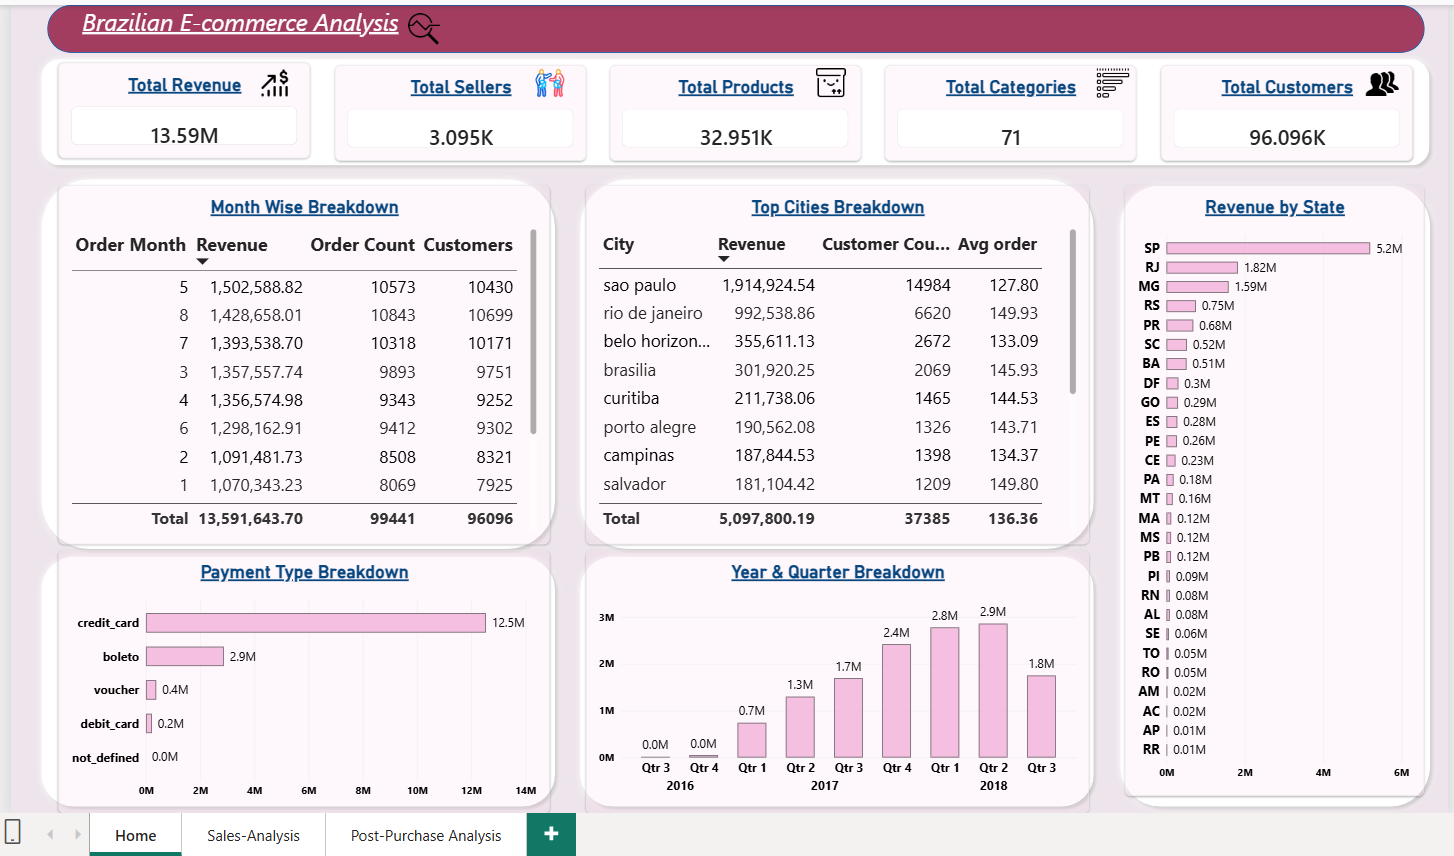

The dashboard page shown, as its layout file describes it:
{"tool":"powerbi","page":{"name":"Home","canvas":[1920,1080],"ordinal":0},"visuals":[{"type":"shape","box":[32,224,704,512],"z":0},{"type":"shape","box":[32,64,1872,160],"z":1000},{"type":"tableEx","title":"Month Wise Breakdown","fields":{"Values":["orders.Order Year Hierarchy.Order Month","Sum(order_items.price)","Count(orders.order_id)","orders.customer_unique_id"]},"box":[64,240,656,480],"z":2000},{"type":"shape","box":[752,224,704,512],"z":3000},{"type":"tableEx","title":"Top Cities Breakdown","fields":{"Values":["customers.customer_city","Sum(order_items.price)","customers.customer_unique_id","order_items.avg orderpercustomer"]},"box":[768,240,672,480],"z":4000},{"type":"cardVisual","title":"Total Revenue","fields":{"Data":["Sum(order_items.price)"]},"box":[64,77,336,128],"z":5000},{"type":"cardVisual","title":"Total Sellers","fields":{"Data":["Count(sellers.seller_id)"]},"box":[432,80,336,128],"z":6000},{"type":"cardVisual","title":"Total Products","fields":{"Data":["Count(products.product_id)"]},"box":[800,80,336,128],"z":7000},{"type":"cardVisual","title":"Total Customers","fields":{"Data":["Count(customers.customer_unique_id)"]},"box":[1536,80,336,128],"z":8000},{"type":"cardVisual","title":"Total Categories","fields":{"Data":["Count(categories.product_category_name_english)"]},"box":[1168,80,336,128],"z":9000},{"type":"shape","box":[32,728,704,352],"z":10000},{"type":"shape","box":[752,728,704,352],"z":11000},{"type":"shape","box":[1472,232,432,848],"z":12000},{"type":"barChart","title":"Revenue by State","fields":{"Category":["customers.customer_state"],"Y":["Sum(order_items.price)"]},"box":[1488,240,400,816],"z":13000},{"type":"barChart","title":"Payment Type Breakdown","fields":{"Category":["payments.payment_type"],"Y":["Sum(payments.payment_value)"]},"box":[64,728,656,352],"z":14000},{"type":"columnChart","title":"Year & Quarter Breakdown","fields":{"Category":["calendar table.Date.Variation.Date Hierarchy.Year","calendar table.Date.Variation.Date Hierarchy.Quarter","calendar table.Date.Variation.Date Hierarchy.Month"],"Y":["Sum(order_items.price)"]},"box":[768,728,672,352],"z":15000},{"type":"shape","box":[48,0,1840,64],"z":16000},{"type":"textbox","box":[96,0,448,64],"z":17000},{"type":"image","box":[1056,80,80,48],"z":18000},{"type":"image","box":[1440,80,64,48],"z":19000},{"type":"image","box":[1792,80,80,48],"z":20000},{"type":"image","box":[688,80,64,48],"z":21000},{"type":"image","box":[320,80,64,48],"z":22000},{"type":"image","box":[528,0,48,64],"z":23000}]}

Visuals, with their boxes on the page's 1920x1080 design canvas (x1, y1, x2, y2). These are canvas units, not pixel positions in the 1454x856 screenshot, which may show the page scaled, cropped or inside an application window:
shape: box=[32, 224, 736, 736]
shape: box=[32, 64, 1904, 224]
"Month Wise Breakdown" tableEx: box=[64, 240, 720, 720]
shape: box=[752, 224, 1456, 736]
"Top Cities Breakdown" tableEx: box=[768, 240, 1440, 720]
"Total Revenue" cardVisual: box=[64, 77, 400, 205]
"Total Sellers" cardVisual: box=[432, 80, 768, 208]
"Total Products" cardVisual: box=[800, 80, 1136, 208]
"Total Customers" cardVisual: box=[1536, 80, 1872, 208]
"Total Categories" cardVisual: box=[1168, 80, 1504, 208]
shape: box=[32, 728, 736, 1080]
shape: box=[752, 728, 1456, 1080]
shape: box=[1472, 232, 1904, 1080]
"Revenue by State" barChart: box=[1488, 240, 1888, 1056]
"Payment Type Breakdown" barChart: box=[64, 728, 720, 1080]
"Year & Quarter Breakdown" columnChart: box=[768, 728, 1440, 1080]
shape: box=[48, 0, 1888, 64]
textbox: box=[96, 0, 544, 64]
image: box=[1056, 80, 1136, 128]
image: box=[1440, 80, 1504, 128]
image: box=[1792, 80, 1872, 128]
image: box=[688, 80, 752, 128]
image: box=[320, 80, 384, 128]
image: box=[528, 0, 576, 64]
